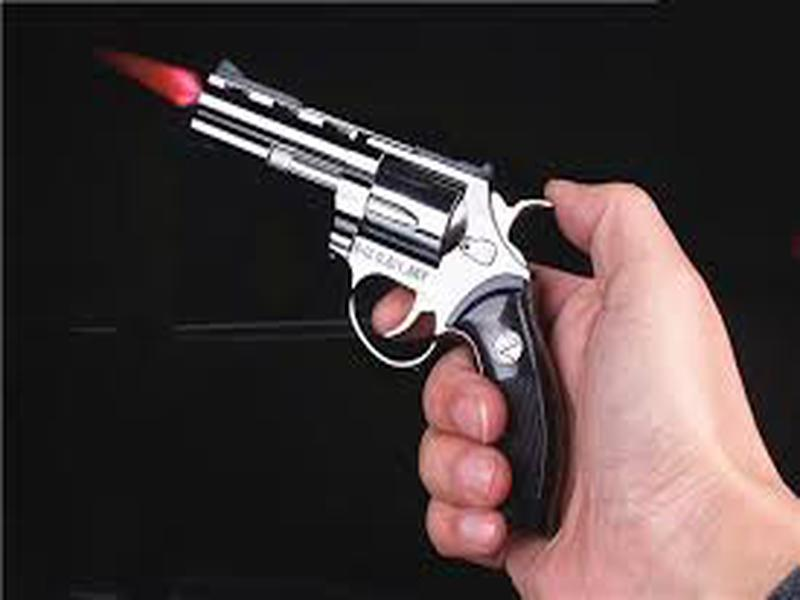Revolver: (203, 52, 563, 400)
